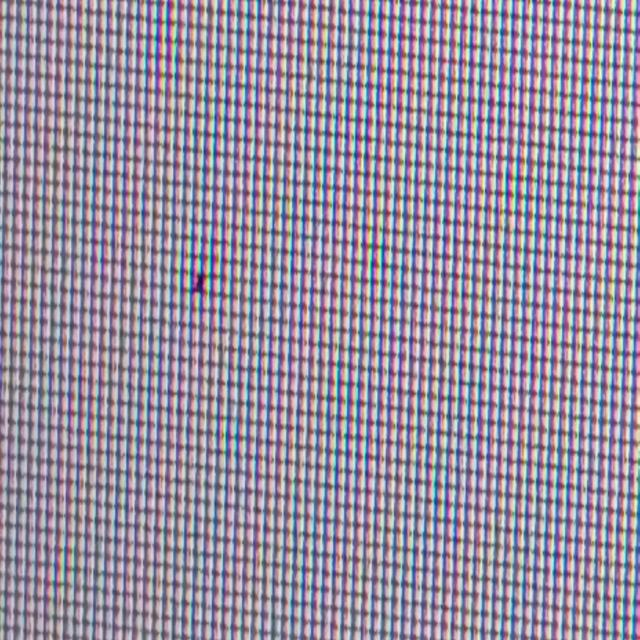Dead pixel: (192, 270, 207, 294)
